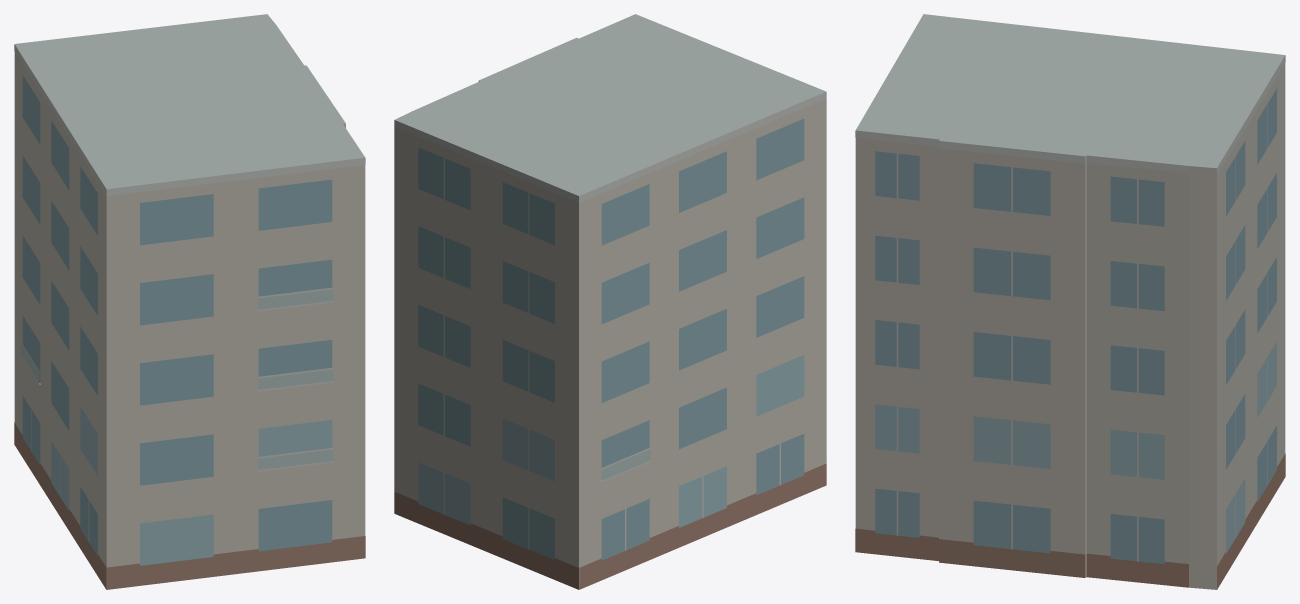
The model's file is survey-upis-32965592.glb.
3 renders of one model, left to right at view 1: azimuth 30°, elevation 25°; view 2: azimuth 150°, elevation 25°; view 3: azimuth 270°, elevation 25°, orthographic. The views are drawn at different scales.
Parts seen in each view (by area): view 1: survey-upis-32965592.tmp; view 2: survey-upis-32965592.tmp; view 3: survey-upis-32965592.tmp.
Part boxes in pixels (left/top/right/bottom): survey-upis-32965592.tmp: left=14, top=14, right=365, bottom=589; survey-upis-32965592.tmp: left=394, top=14, right=826, bottom=589; survey-upis-32965592.tmp: left=855, top=14, right=1285, bottom=589.
Bounding box in the file's own units: 10.91 × 13.9 × 12.86.
